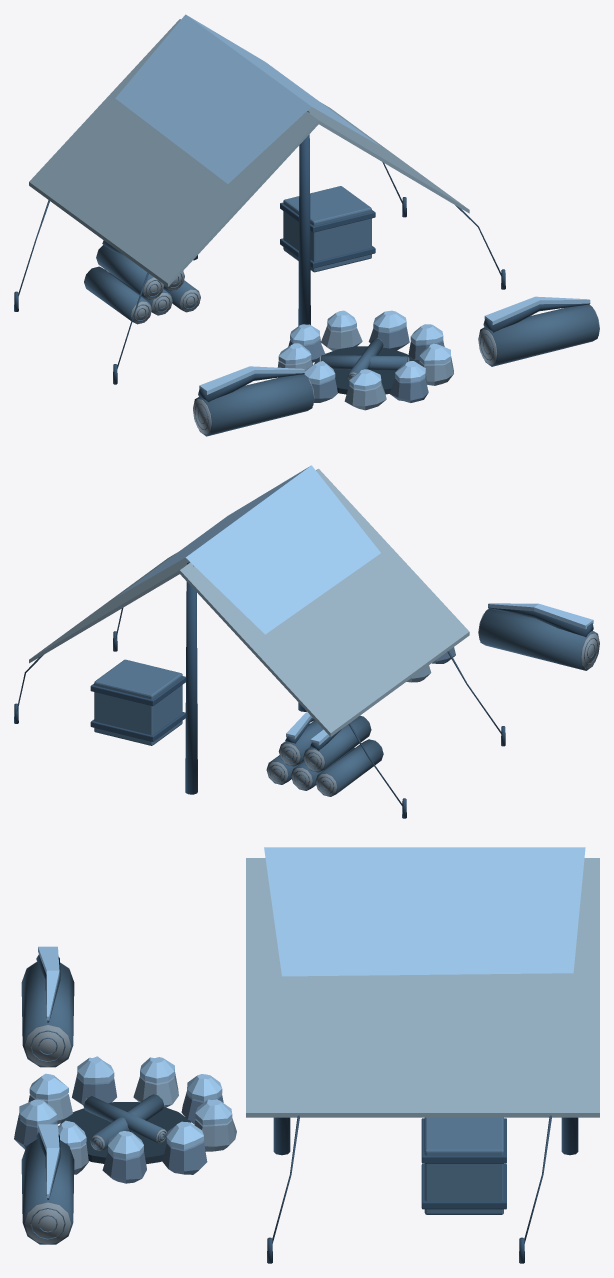
File: camp_tarp.glb
The picture shows the model from 3 angles, top to bottom: view 1: azimuth 30°, elevation 25°; view 2: azimuth 150°, elevation 25°; view 3: azimuth 270°, elevation 25°; orthographic projection. The views are drawn at different scales.
Parts seen in each view (by area): view 1: Near; view 2: Near; view 3: Near.
Part boxes in pixels (x1,y1,x2,y2): Near: (14, 14, 599, 436); Near: (14, 465, 599, 818); Near: (14, 847, 599, 1263).
Size of the model in its own units: 4.81 by 2.8 by 4.88.
